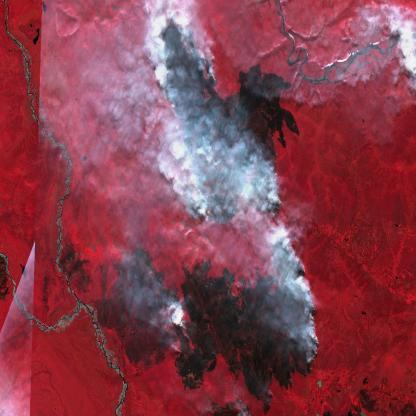fire: (150, 8, 287, 228), (270, 242, 326, 378), (173, 305, 203, 348)
